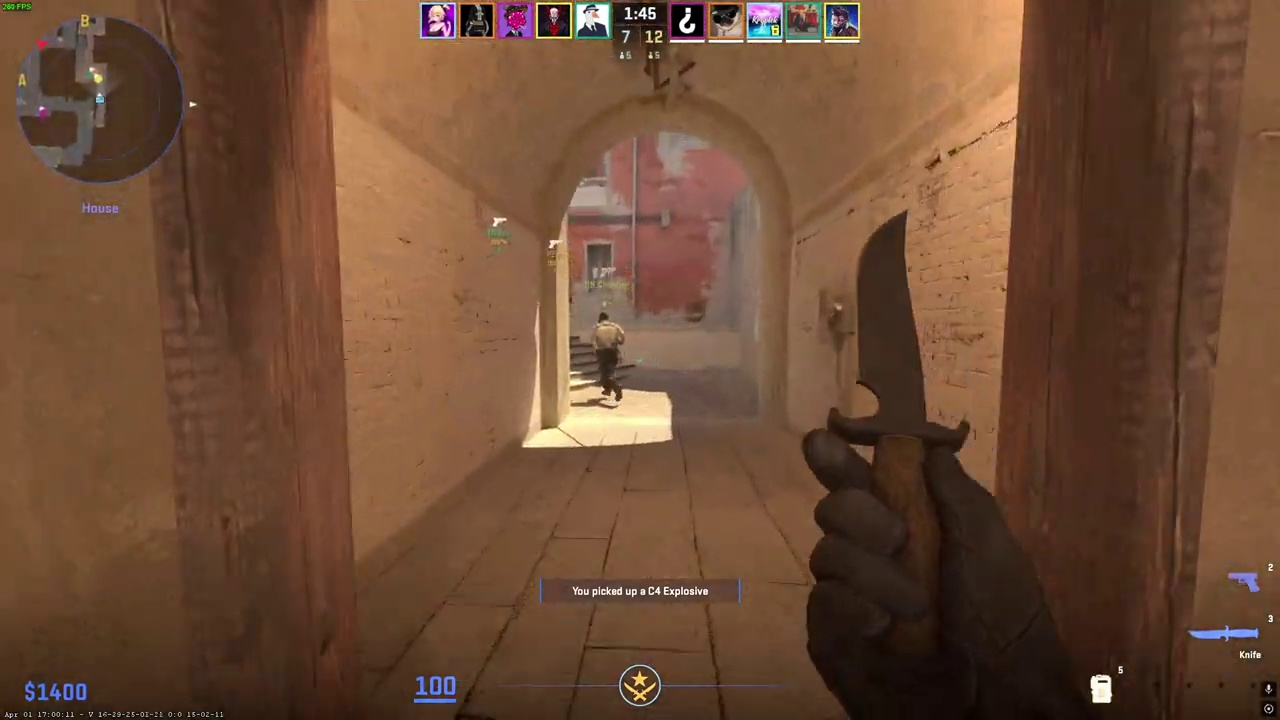Terrorist: (591, 312, 625, 402)
